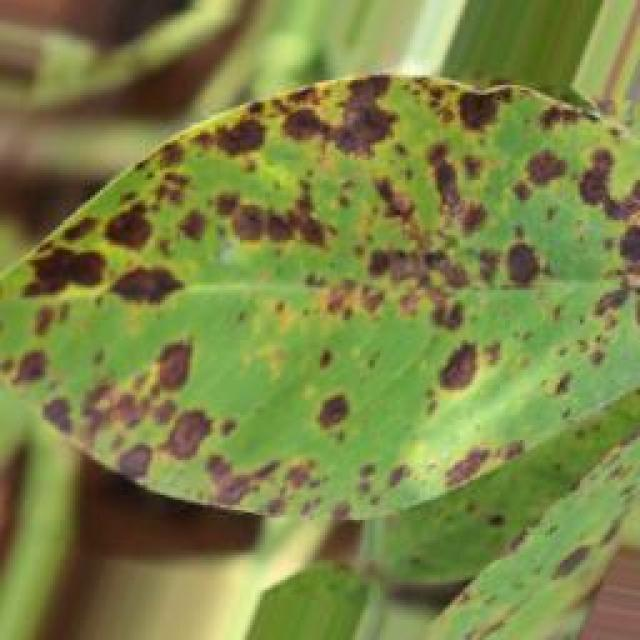Yellowish: (13, 62, 640, 496), (429, 437, 640, 640)
